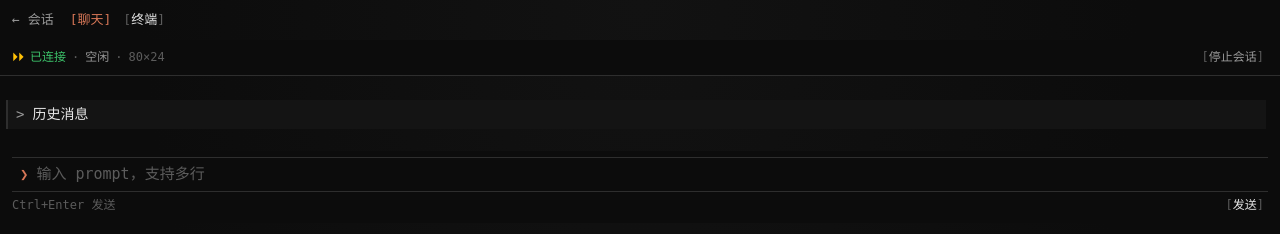
Test: SessionView › switches to the terminal tab after sending a slash command, since its dialog only shows there
Type "/model" into the text box with placeholder "输入 prompt，支持多行" at (648, 175), box [36,163,1260,186]
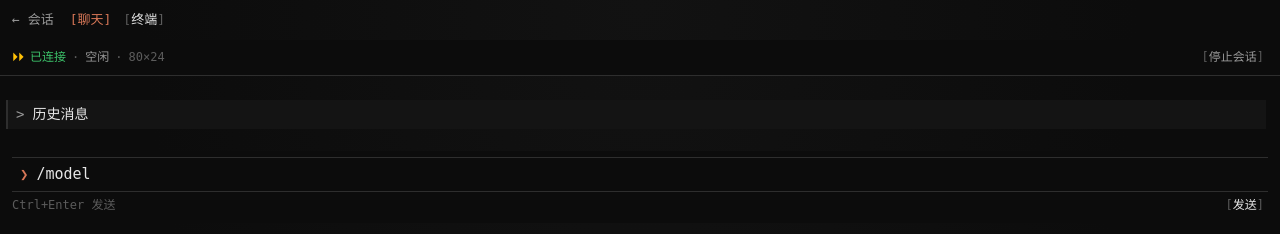
Click the button with test id "send" at (1245, 206), box [1222,194,1268,217]
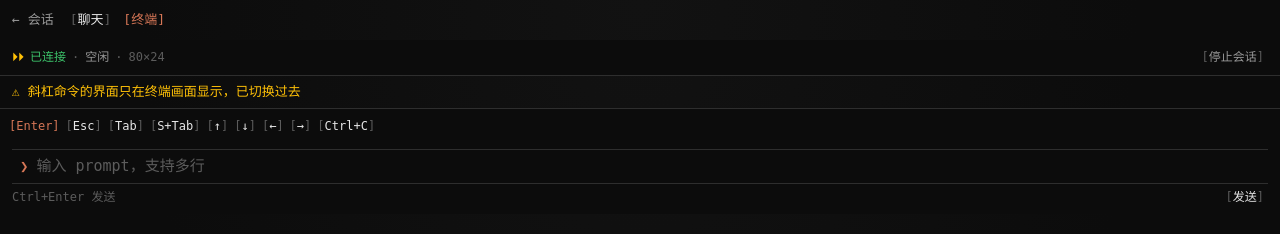
Check: the text "终端画面" is shown, box [12,84,301,99]
